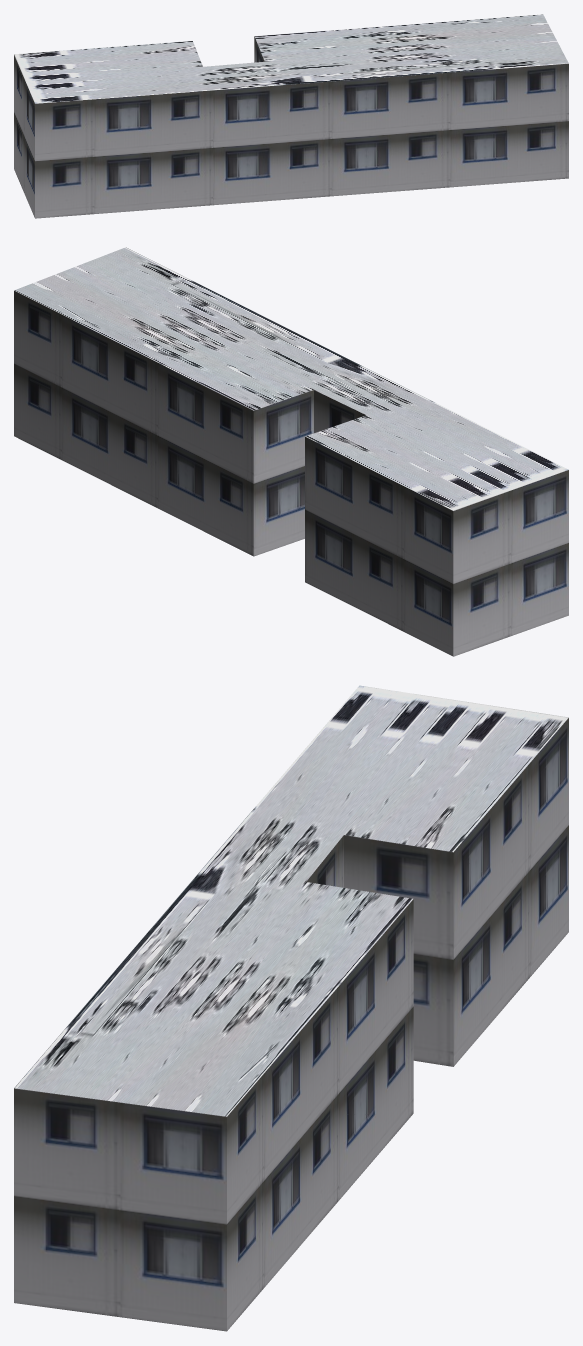
Rendered from ResTex__433.fbx.
3 renders of one model, top to bottom at view 1: azimuth 30°, elevation 25°; view 2: azimuth 150°, elevation 25°; view 3: azimuth 270°, elevation 25°, orthographic. The views are drawn at different scales.
Parts seen in each view (by area): view 1: CityEngineMaterial_9_m, CityEngineMaterial_m; view 2: CityEngineMaterial_9_m, CityEngineMaterial_m; view 3: CityEngineMaterial_9_m, CityEngineMaterial_m.
Part boxes in pixels (x1,y1,x2,y2): CityEngineMaterial_9_m: (14,36,568,218); CityEngineMaterial_m: (14,14,568,103); CityEngineMaterial_9_m: (14,290,568,656); CityEngineMaterial_m: (14,247,568,510); CityEngineMaterial_9_m: (14,718,568,1331); CityEngineMaterial_m: (14,685,568,1116).
Size of the model in its own units: 25.84 by 6 by 14.05.
2 materials, 2 textured.
